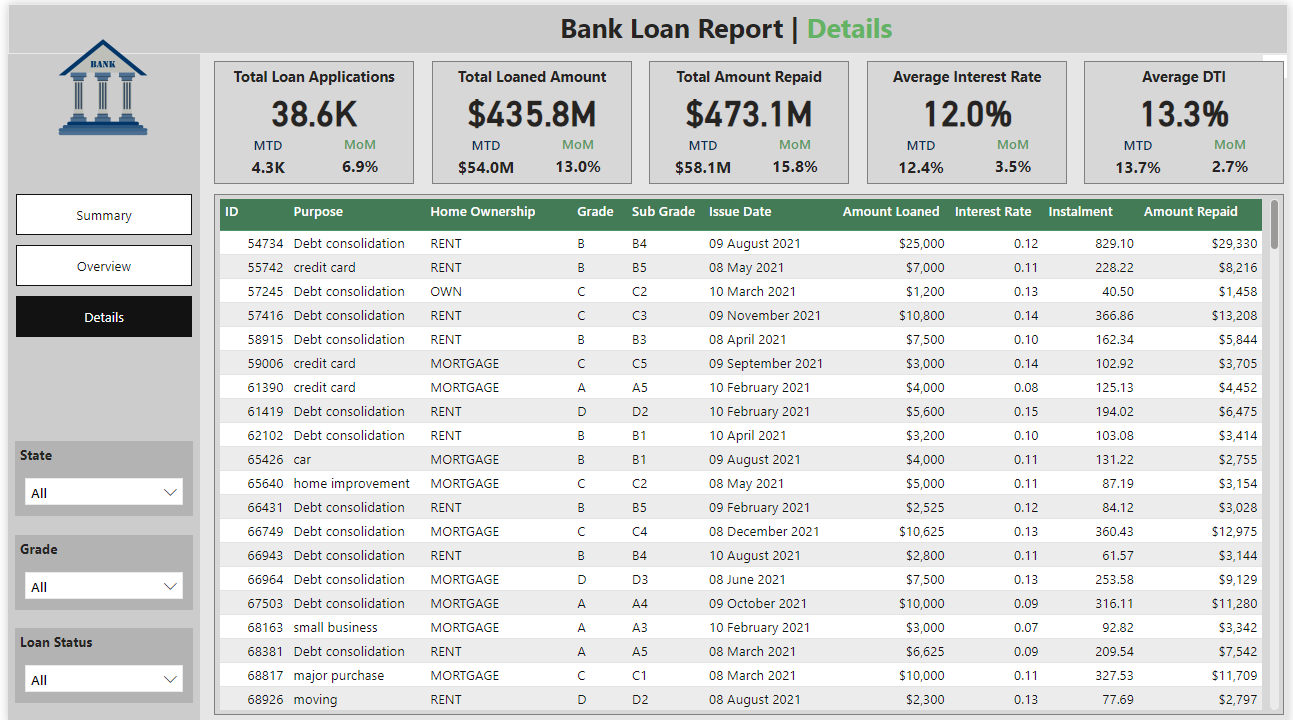

The page's visual inventory and layout, read from the dashboard file:
{"tool":"powerbi","page":{"name":"Details","canvas":[1280,720],"ordinal":2},"visuals":[{"type":"shape","box":[0,49.6,191.6,670.2],"z":0},{"type":"shape","box":[206,57,200,123],"z":0,"group":"g3"},{"type":"shape","box":[423.5,57,200,123],"z":0,"group":"g4"},{"type":"shape","box":[641,57,200,123],"z":0,"group":"g6"},{"type":"shape","box":[858.5,57,200,123],"z":0,"group":"g5"},{"type":"shape","box":[1076,57,200,123],"z":0,"group":"g7"},{"type":"textbox","box":[6.8,530.8,178,27.2],"z":0,"group":"g10"},{"type":"textbox","box":[6.8,624.4,178,27.2],"z":0,"group":"g9"},{"type":"card","fields":{"Values":["bank_loan_data.Total Loan Applications"]},"box":[220,83,172,48],"z":1000,"group":"g3"},{"type":"card","fields":{"Values":["bank_loan_data.Total Loaned Amount"]},"box":[437.5,83,172,48],"z":1000,"group":"g4"},{"type":"card","fields":{"Values":["bank_loan_data.Total Amount Repaid"]},"box":[655,83,172,48],"z":1000,"group":"g6"},{"type":"card","fields":{"Values":["bank_loan_data.AVG Interest Rate"]},"box":[872.5,83,172,48],"z":1000,"group":"g5"},{"type":"card","fields":{"Values":["bank_loan_data.Average DTI"]},"box":[1090,83,172,48],"z":1000,"group":"g7"},{"type":"shape","box":[206.2,189.7,1069.9,521.3],"z":1000},{"type":"group","id":"g1","title":"Group 2","box":[6.8,557.9,178,48],"z":1000,"group":"g10"},{"type":"group","id":"g2","title":"Group 2","box":[6.8,651.7,178,48],"z":1000,"group":"g9"},{"type":"shape","box":[0,0,1280,50],"z":2000},{"type":"textbox","box":[206,57,200,37],"z":2000,"group":"g3"},{"type":"textbox","box":[423.5,57,200,37],"z":2000,"group":"g4"},{"type":"textbox","box":[641,57,200,37],"z":2000,"group":"g6"},{"type":"textbox","box":[858.5,57,200,37],"z":2000,"group":"g5"},{"type":"textbox","box":[1076,57,200,37],"z":2000,"group":"g7"},{"type":"textbox","box":[547,0,387,51],"z":3000},{"type":"card","title":"MTD","fields":{"Values":["bank_loan_data.MTD Loan Applications"]},"box":[220,132,80,48],"z":3000,"group":"g3"},{"type":"card","title":"MTD","fields":{"Values":["bank_loan_data.MTD Loaned Amount"]},"box":[437.5,132,80,48],"z":3000,"group":"g4"},{"type":"card","title":"MTD","fields":{"Values":["bank_loan_data.MTD Loaned Repaid"]},"box":[655,132,80,48],"z":3000,"group":"g6"},{"type":"card","title":"MTD","fields":{"Values":["bank_loan_data.MTD AVG Interest Rate"]},"box":[872.5,132,80,48],"z":3000,"group":"g5"},{"type":"card","title":"MTD","fields":{"Values":["bank_loan_data.MTD AVG DTI"]},"box":[1090,132,80,48],"z":3000,"group":"g7"},{"type":"group","id":"g3","title":"Group 1","box":[206,57,200,123],"z":4000},{"type":"card","title":"MoM","fields":{"Values":["bank_loan_data.MoM Loan Application"]},"box":[312,131,80,48],"z":4000,"group":"g3"},{"type":"card","title":"MoM","fields":{"Values":["bank_loan_data.MoM Loaned Amount"]},"box":[529.5,131,80,48],"z":4000,"group":"g4"},{"type":"card","title":"MoM","fields":{"Values":["bank_loan_data.MoM Amount Repaid"]},"box":[747,131,80,48],"z":4000,"group":"g6"},{"type":"card","title":"MoM","fields":{"Values":["bank_loan_data.MoM Avg Interest Rate"]},"box":[964.5,131,80,48],"z":4000,"group":"g5"},{"type":"card","title":"MoM","fields":{"Values":["bank_loan_data.MoM Avg DTI"]},"box":[1182,131,80,48],"z":4000,"group":"g7"},{"type":"group","id":"g4","title":"Group 1","box":[423.5,57,200,123],"z":5000},{"type":"group","id":"g5","title":"Group 1","box":[858.5,57,200,123],"z":6000},{"type":"group","id":"g6","title":"Group 1","box":[641,57,200,123],"z":7000},{"type":"group","id":"g7","title":"Group 1","box":[1076,57,200,123],"z":8000},{"type":"group","id":"g8","title":"Group 2","box":[6.8,437.2,178,75.1],"z":11000},{"type":"group","id":"g9","title":"Group 3","box":[6.8,624.4,178,75.3],"z":12000},{"type":"group","id":"g10","title":"Group 4","box":[6.8,530.8,178,75.1],"z":13000},{"type":"tableEx","fields":{"Values":["bank_loan_data.id","bank_loan_data.purpose","bank_loan_data.home_ownership","bank_loan_data.grade","bank_loan_data.sub_grade","bank_loan_data.issue_date","bank_loan_data.Total Loaned Amount","Sum(bank_loan_data.int_rate)","Sum(bank_loan_data.installment)","bank_loan_data.Total Amount Repaid"]},"box":[206.2,189.7,1069.9,521.3],"z":14001},{"type":"pageNavigator","box":[7.8,189.7,176,144.9],"z":14002},{"type":"image","box":[26.3,11.7,138.1,141],"z":14003},{"type":"slicer","fields":{"Values":["bank_loan_data.address_state"]},"box":[6.8,464.3,178,48],"z":21000,"group":"g8"},{"type":"slicer","fields":{"Values":["bank_loan_data.grade"]},"box":[6.8,557.9,178,48],"z":21000,"group":"g1"},{"type":"slicer","fields":{"Values":["bank_loan_data.Good vs Bad Loan"]},"box":[6.8,651.7,178,48],"z":21000,"group":"g2"},{"type":"textbox","box":[6.8,437.2,178,27.2],"z":22000,"group":"g8"}]}

Visuals, with their boxes in screenshot pixels (x1, y1, x2, y2), scaled from the page's 1280x720 canvas onto the 1293x720 screenshot:
shape: 0 50 194 719
shape: 208 57 410 180
shape: 428 57 630 180
shape: 648 57 850 180
shape: 867 57 1069 180
shape: 1087 57 1289 180
textbox: 7 531 187 558
textbox: 7 624 187 652
card - bank_loan_data.Total Loan Applications: 222 83 396 131
card - bank_loan_data.Total Loaned Amount: 442 83 616 131
card - bank_loan_data.Total Amount Repaid: 662 83 835 131
card - bank_loan_data.AVG Interest Rate: 881 83 1055 131
card - bank_loan_data.Average DTI: 1101 83 1275 131
shape: 208 190 1289 711
"Group 2" group: 7 558 187 606
"Group 2" group: 7 652 187 700
shape: 0 0 1292 50
textbox: 208 57 410 94
textbox: 428 57 630 94
textbox: 648 57 850 94
textbox: 867 57 1069 94
textbox: 1087 57 1289 94
textbox: 553 0 943 51
"MTD" card: 222 132 303 180
"MTD" card: 442 132 523 180
"MTD" card: 662 132 742 180
"MTD" card: 881 132 962 180
"MTD" card: 1101 132 1182 180
"Group 1" group: 208 57 410 180
"MoM" card: 315 131 396 179
"MoM" card: 535 131 616 179
"MoM" card: 755 131 835 179
"MoM" card: 974 131 1055 179
"MoM" card: 1194 131 1275 179
"Group 1" group: 428 57 630 180
"Group 1" group: 867 57 1069 180
"Group 1" group: 648 57 850 180
"Group 1" group: 1087 57 1289 180
"Group 2" group: 7 437 187 512
"Group 3" group: 7 624 187 700
"Group 4" group: 7 531 187 606
tableEx - bank_loan_data.id x bank_loan_data.purpose: 208 190 1289 711
pageNavigator: 8 190 186 335
image: 27 12 166 153
slicer - bank_loan_data.address_state: 7 464 187 512
slicer - bank_loan_data.grade: 7 558 187 606
slicer - bank_loan_data.Good vs Bad Loan: 7 652 187 700
textbox: 7 437 187 464
